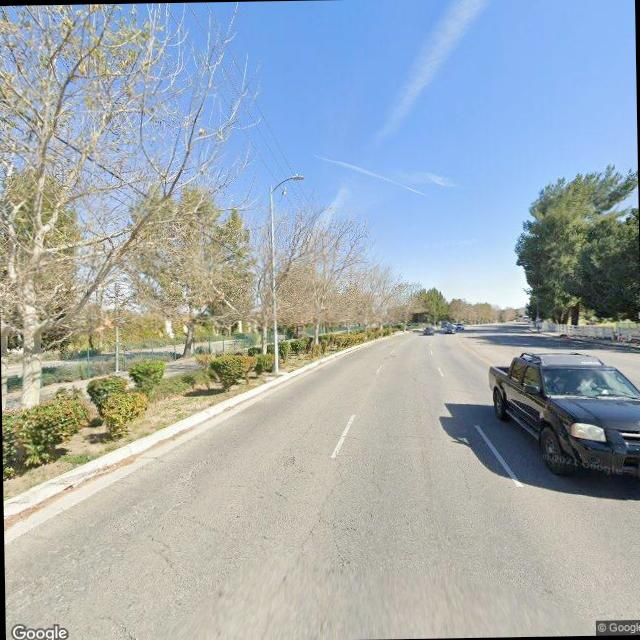crack: (267, 430, 373, 568)
pothole: (454, 458, 474, 502)
